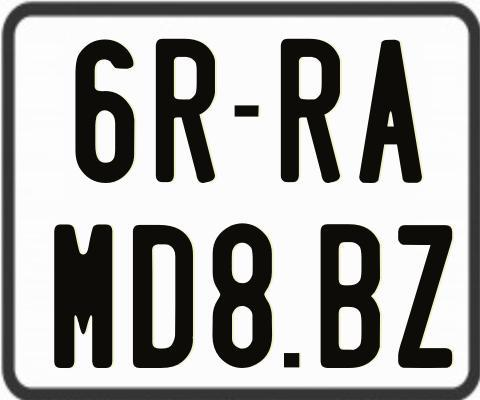6: (72, 38, 137, 181)
8: (209, 221, 272, 371)
A: (359, 39, 424, 186)
B: (318, 224, 381, 373)
D: (131, 223, 192, 368)
M: (54, 223, 114, 368)
R: (155, 37, 220, 186), (279, 36, 339, 182)
Z: (398, 224, 455, 372)
